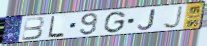9: (79, 12, 99, 36)
B: (21, 16, 46, 41)
G: (102, 10, 127, 34)
J: (161, 5, 184, 30), (137, 9, 156, 31)
L: (47, 15, 66, 39)
